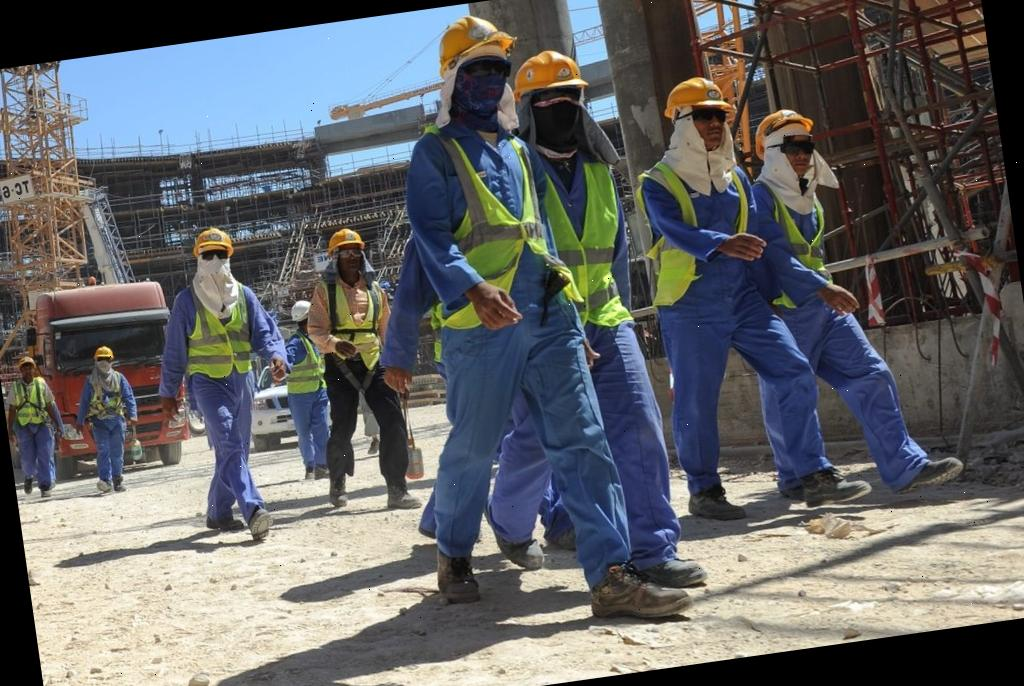helmet: (428, 3, 522, 78), (510, 43, 588, 104), (657, 70, 739, 128), (752, 102, 819, 146), (188, 224, 234, 259), (322, 224, 365, 254), (285, 296, 314, 325), (94, 340, 116, 362), (15, 351, 36, 372)
wear: (410, 118, 556, 326), (520, 140, 636, 334), (639, 156, 765, 300), (750, 171, 840, 305), (172, 276, 264, 382), (308, 270, 392, 372), (278, 334, 324, 395), (82, 368, 130, 423), (12, 376, 52, 425)
